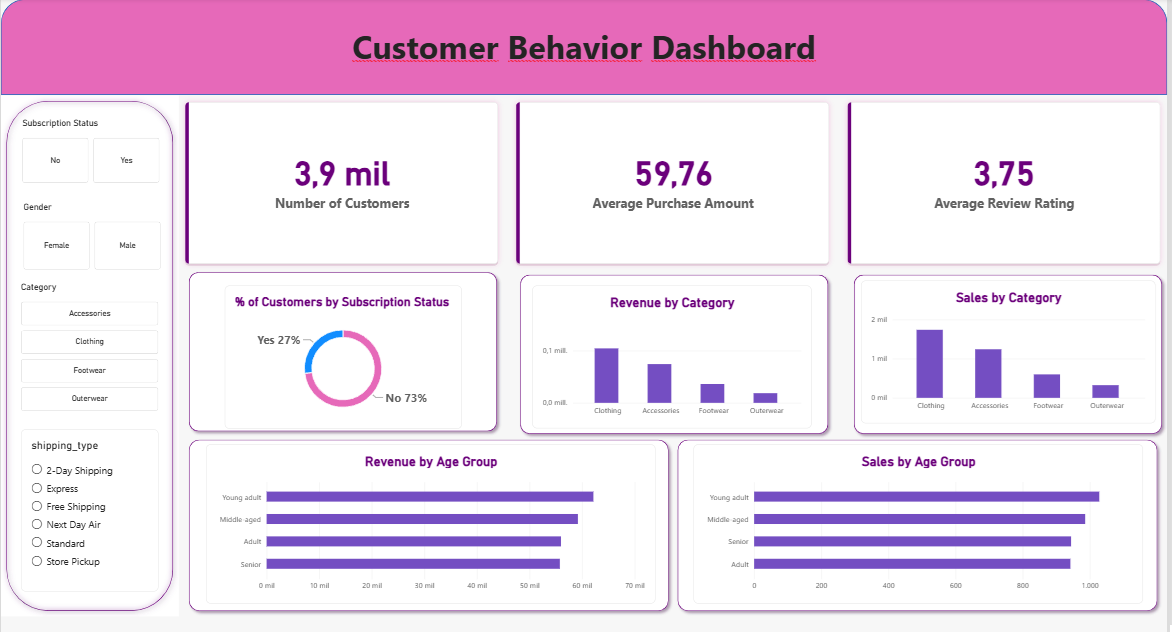

Layout of this report page (visuals, bound fields, positions):
{"tool":"powerbi","page":{"name":"Página 1","canvas":[1920,1080],"ordinal":0},"visuals":[{"type":"cardVisual","fields":{"Data":["public customer.Number of Customers","public customer.Average Purchase Amount","public customer.Average Review Rating"]},"box":[292.5,160,1627.8,288.1],"z":0},{"type":"shape","box":[0,2.5,1920,157.5],"z":1000},{"type":"textbox","box":[0,42.5,1920,117.5],"z":2000},{"type":"shape","box":[300,442.5,525,280],"z":3000},{"type":"donutChart","title":"% of Customers by Subscription Status","fields":{"Category":["public customer.subscription_status"],"Y":["CountNonNull(public customer.customer_id)"]},"box":[367.5,472.5,390,236],"z":4000},{"type":"shape","box":[0,160,292.5,857.5],"z":7000},{"type":"advancedSlicerVisual","title":"Subscription Status","fields":{"Values":["public customer.subscription_status"]},"box":[35,197.5,227.5,107.5],"z":8000},{"type":"advancedSlicerVisual","title":"Gender","fields":{"Values":["public customer.gender"]},"box":[37.5,335,227.5,112.5],"z":9000},{"type":"advancedSlicerVisual","title":"Category","fields":{"Values":["public customer.category"]},"box":[32.9,467.2,226.4,214],"z":10000},{"type":"listSlicer","fields":{"Values":["public customer.shipping_type"]},"box":[32.9,710,226.4,267.5],"z":11000},{"type":"shape","box":[300,717.5,807.5,300],"z":14003},{"type":"shape","box":[845,447.5,525,280],"z":14004},{"type":"shape","box":[1395,447.5,525,280],"z":14005},{"type":"clusteredColumnChart","title":"Revenue by Category","fields":{"Category":["public customer.category"],"Y":["Sum(public customer.purchase_amount)"]},"box":[875,472.5,460,235],"z":14006},{"type":"clusteredColumnChart","title":"Sales by Category","fields":{"Category":["public customer.category"],"Y":["CountNonNull(public customer.customer_id)"]},"box":[1415,465,485,235],"z":14007},{"type":"clusteredBarChart","title":"Revenue by Age Group","fields":{"Category":["public customer.age_group"],"Y":["Sum(public customer.purchase_amount)"]},"box":[337.5,735,740,262.5],"z":14008},{"type":"shape","box":[1105,717.5,807.5,300],"z":14009},{"type":"clusteredBarChart","title":"Sales by Age Group","fields":{"Category":["public customer.age_group"],"Y":["CountNonNull(public customer.customer_id)"]},"box":[1140,735,740,262.5],"z":14010}]}

Visuals, with their boxes in screenshot pixels (x1, y1, x2, y2):
cardVisual - public customer.Number of Customers x public customer.Average Purchase Amount: box=[184, 93, 1158, 265]
shape: box=[9, 0, 1158, 93]
textbox: box=[9, 22, 1158, 93]
shape: box=[189, 262, 503, 429]
"% of Customers by Subscription Status" donutChart: box=[229, 280, 462, 421]
shape: box=[9, 93, 184, 606]
"Subscription Status" advancedSlicerVisual: box=[30, 115, 166, 179]
"Gender" advancedSlicerVisual: box=[32, 197, 168, 265]
"Category" advancedSlicerVisual: box=[29, 276, 164, 404]
listSlicer - public customer.shipping_type: box=[29, 422, 164, 582]
shape: box=[189, 426, 672, 606]
shape: box=[515, 265, 829, 432]
shape: box=[844, 265, 1158, 432]
"Revenue by Category" clusteredColumnChart: box=[532, 280, 808, 420]
"Sales by Category" clusteredColumnChart: box=[855, 275, 1146, 416]
"Revenue by Age Group" clusteredBarChart: box=[211, 437, 654, 594]
shape: box=[670, 426, 1153, 606]
"Sales by Age Group" clusteredBarChart: box=[691, 437, 1134, 594]
